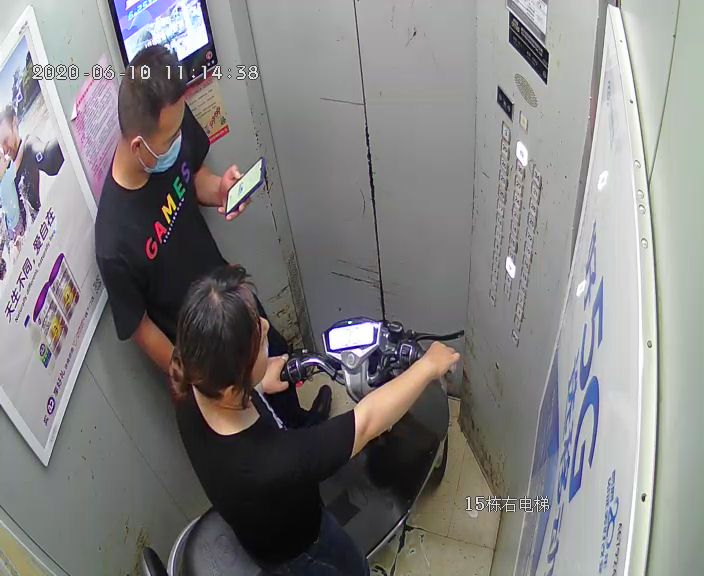Electric-bicycle: (133, 319, 462, 574)
